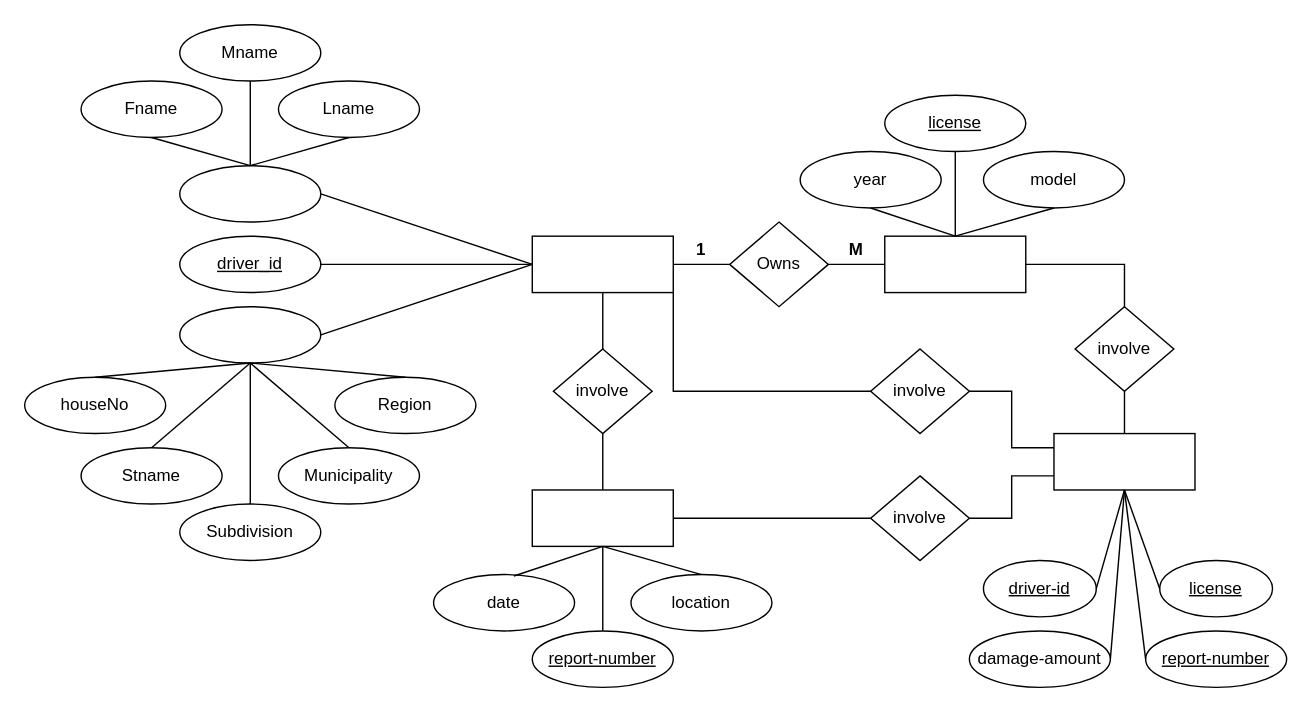
Image size: 1311x712. Some labels were removed from this diagram. The centre of each missing label's shape, as x and y in pixels:
"accident" belongs at pixel 602 517.
"address" belongs at pixel 249 334.
"Car" belongs at pixel 954 264.
"name" belongs at pixel 249 193.
"participated" belongs at pixel 1124 461.
"person" belongs at pixel 602 264.
